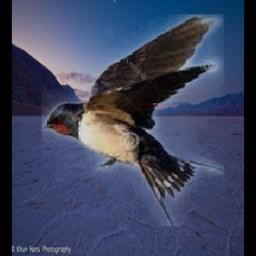Swallow: (43, 16, 225, 227)
